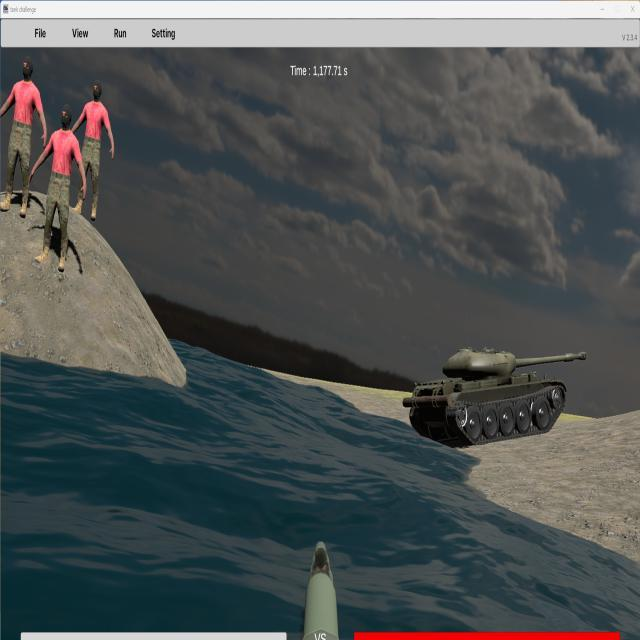Human: (29, 104, 86, 272), (0, 57, 47, 216), (67, 80, 114, 223)
Tank: (403, 344, 586, 447)
